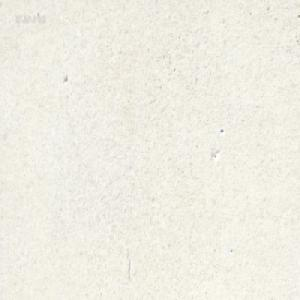Wrench: (119, 0, 125, 4)
